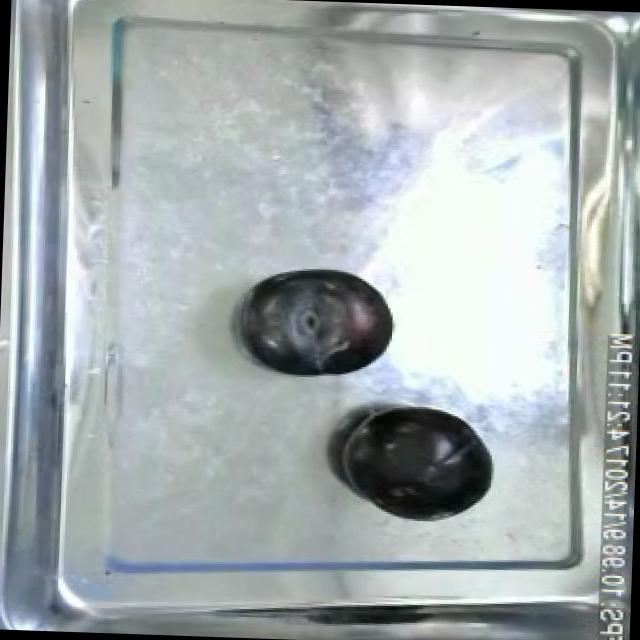Fruit: (333, 398, 503, 528), (236, 261, 404, 385)
